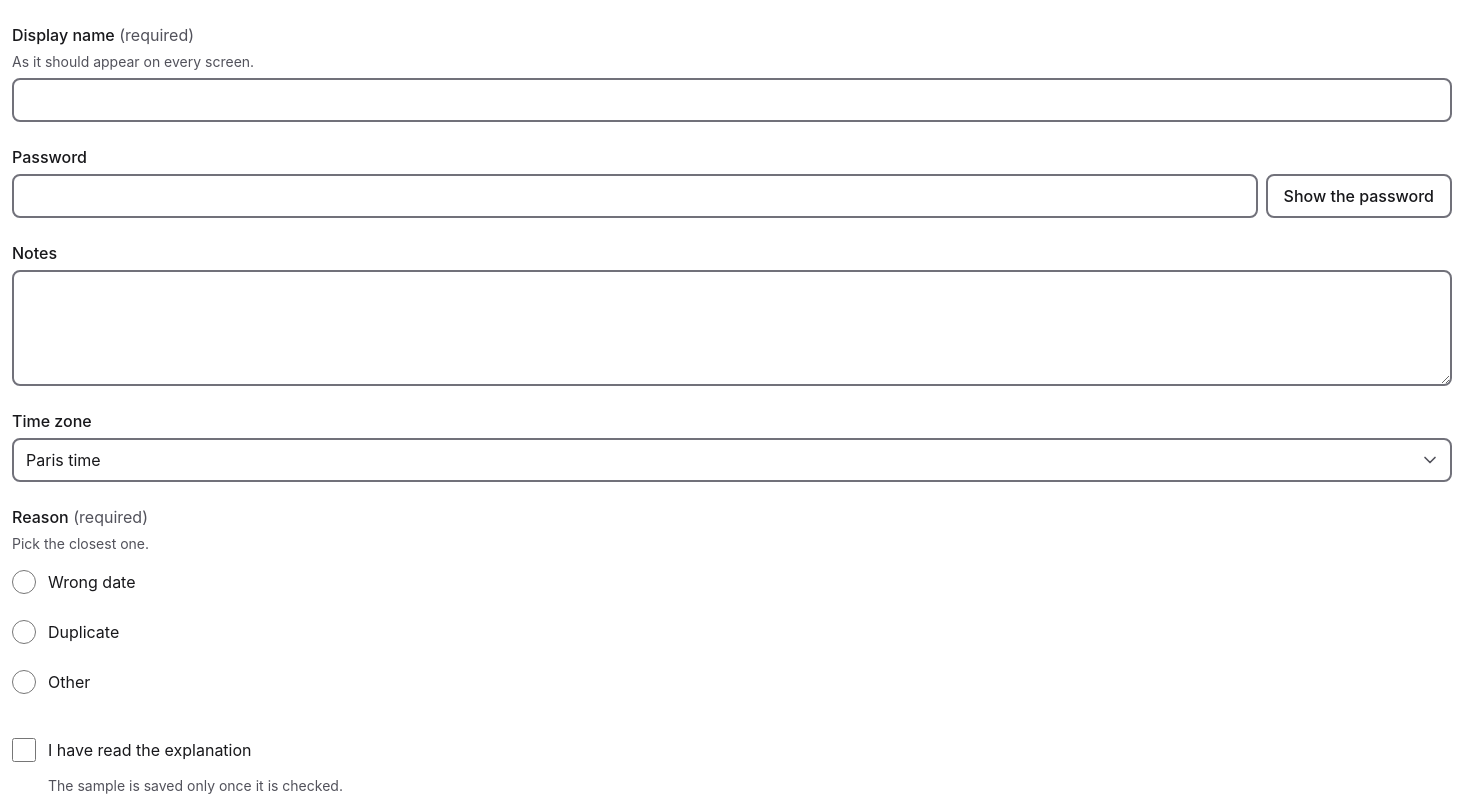
FieldsSample › saves a sample with a name, a reason and the box checked, and says so
Type "Sample" into the field labelled "Display name". click: {"x": 732, "y": 100}
box: [12,78,1452,122]
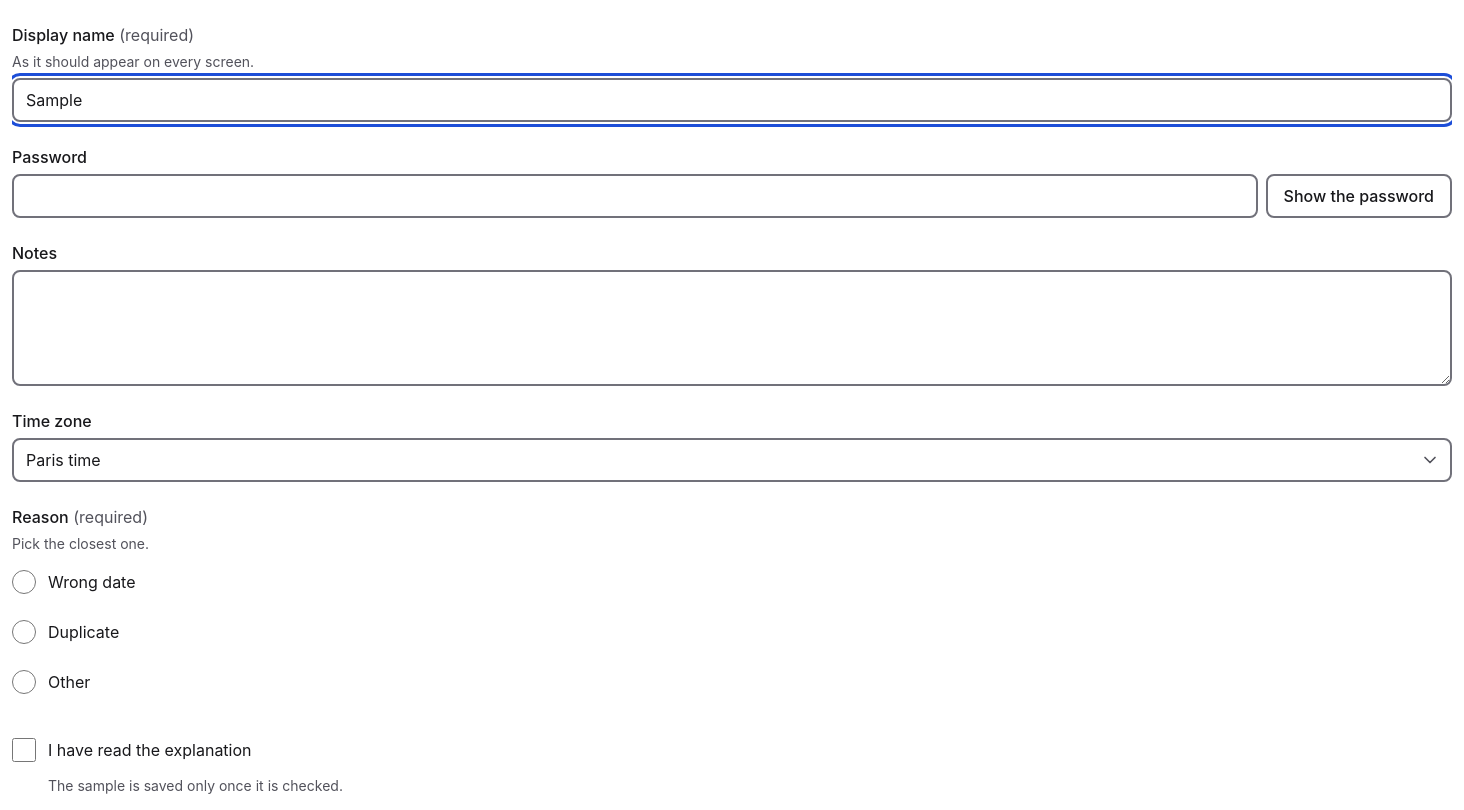
Click the radio button labelled "Duplicate". click: {"x": 24, "y": 632}
box: [12,620,36,644]
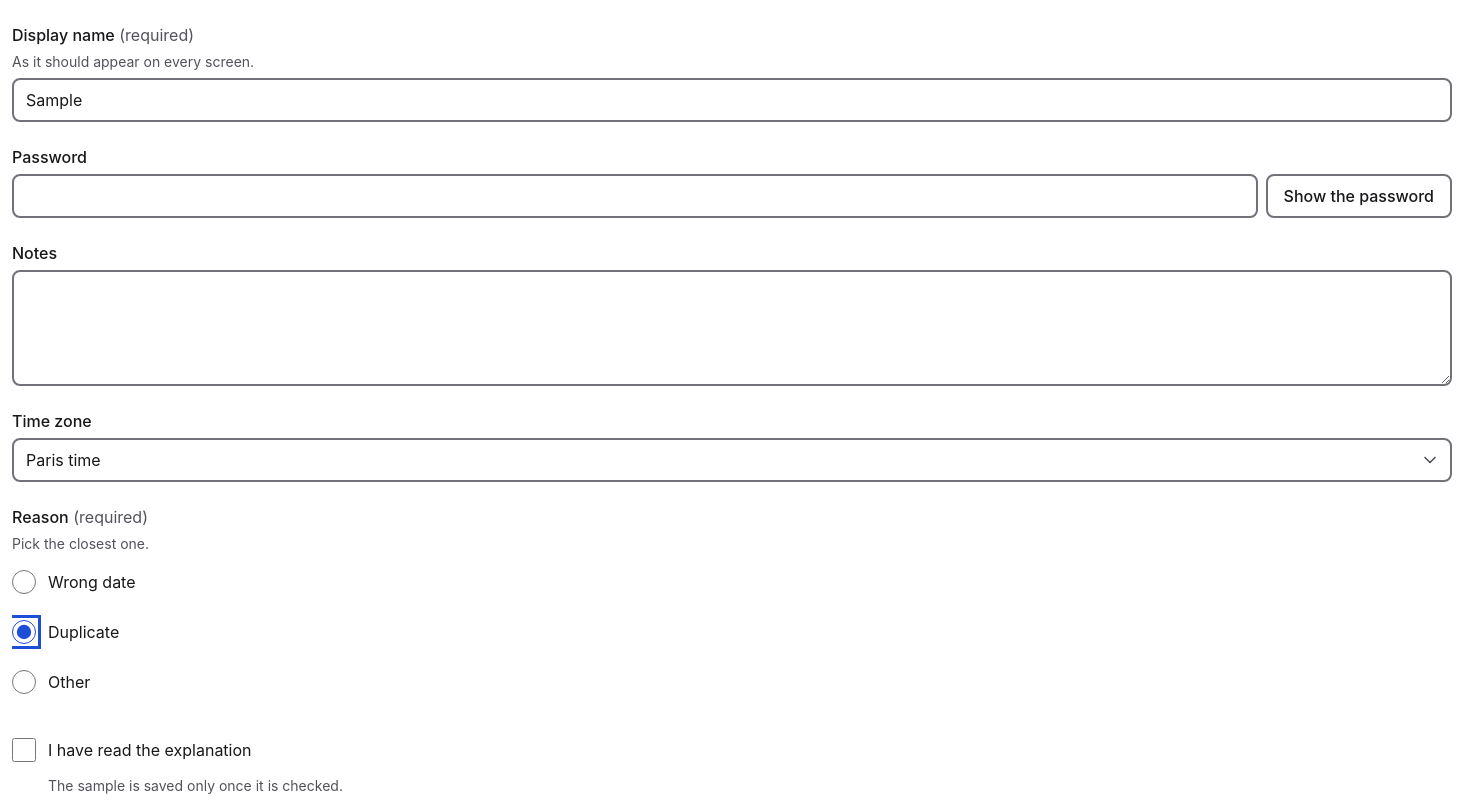
Click the checkbox labelled "I have read the explanation". click: {"x": 24, "y": 750}
box: [12,738,36,762]
(page scrolled)
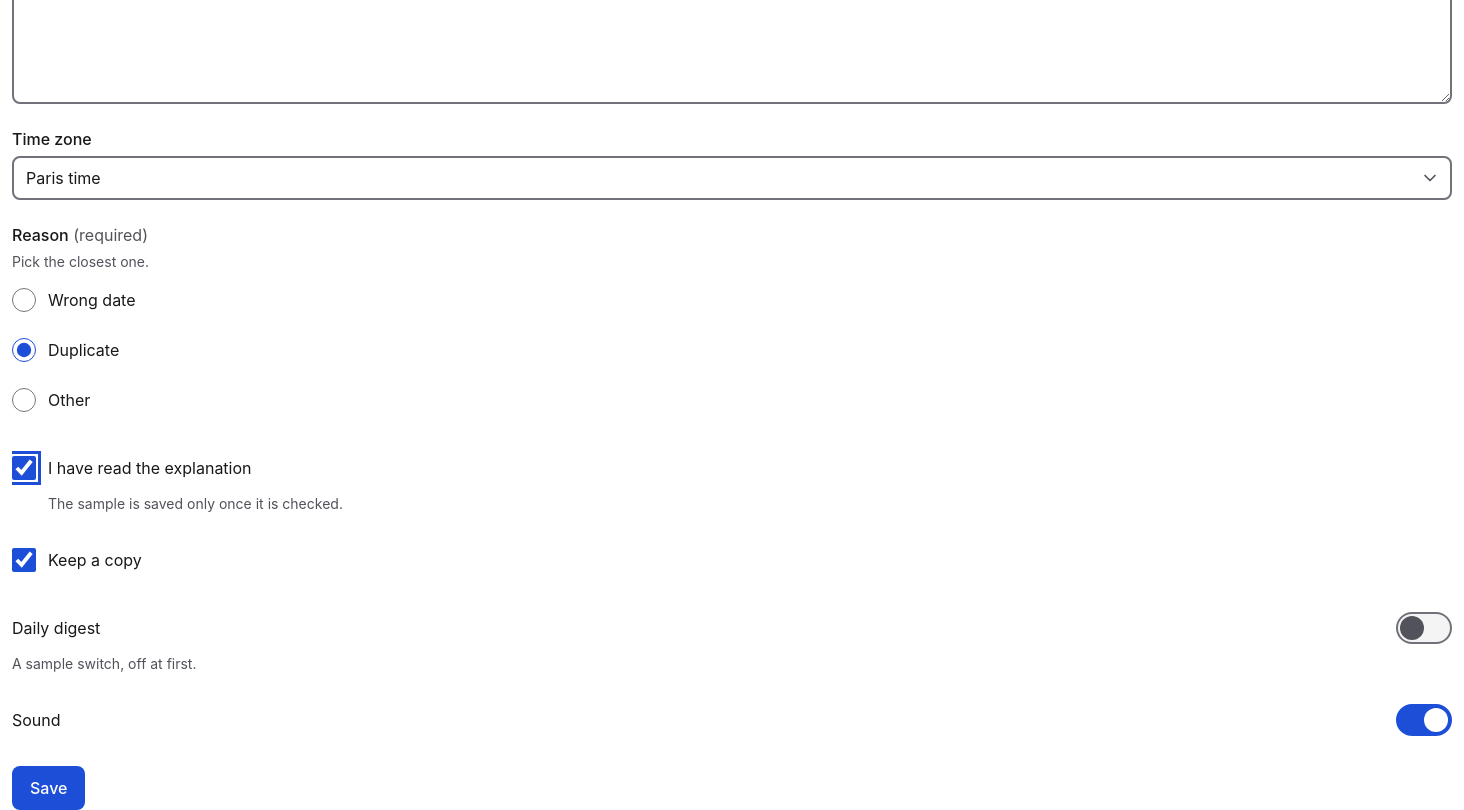
Click the button "Save". click: {"x": 49, "y": 788}
box: [12,766,86,809]
(page scrolled)
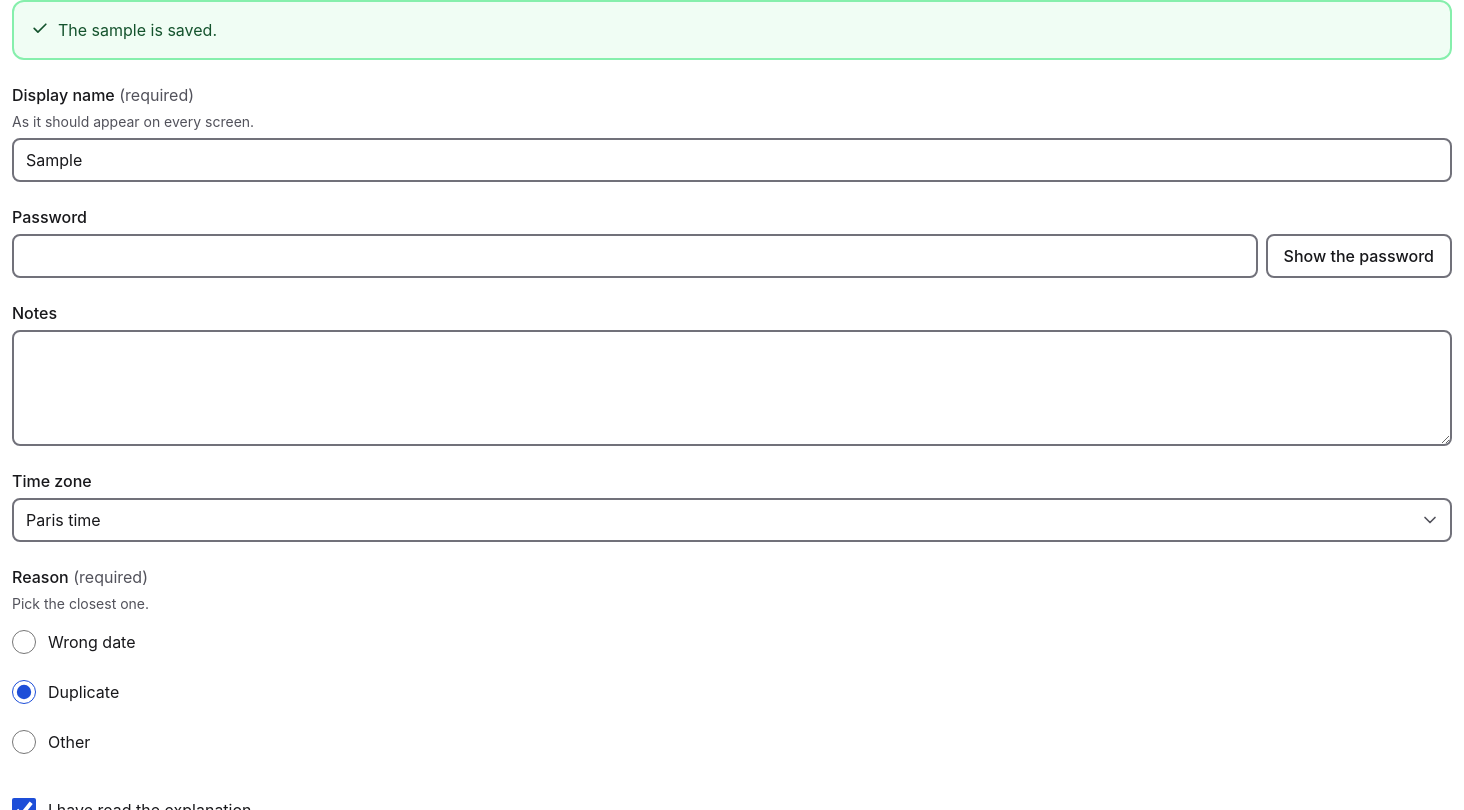
Expected: the text "The sample is saved." is shown, [58,18,217,42]
